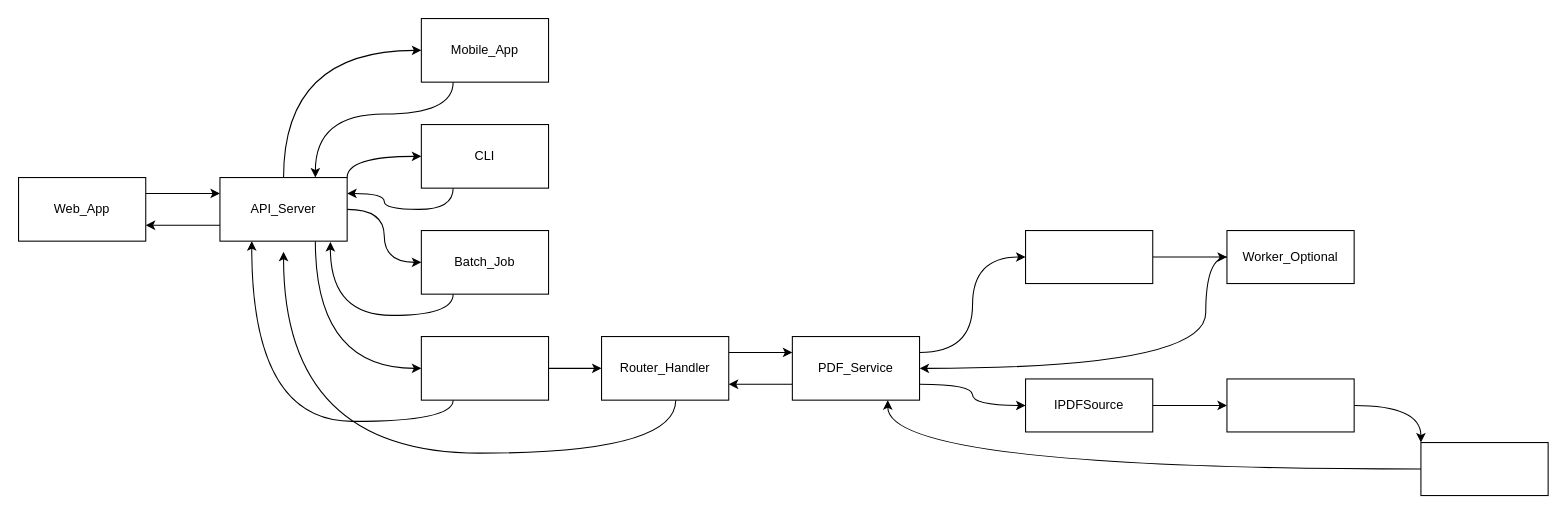
The diagram is 1567 pixels wide and 514 high, and some of its shapes have lost their labels. The box of each missing label's shape, as (x1, y1, x2, y2) in pixels:
Extractors: (1420, 441, 1548, 496)
Job_Queue_Optional: (1024, 229, 1153, 284)
PDFParser: (1226, 378, 1354, 432)
Request_Validation: (420, 335, 549, 400)
